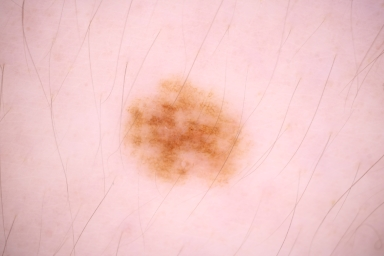melanoma: (121, 80, 250, 183)
